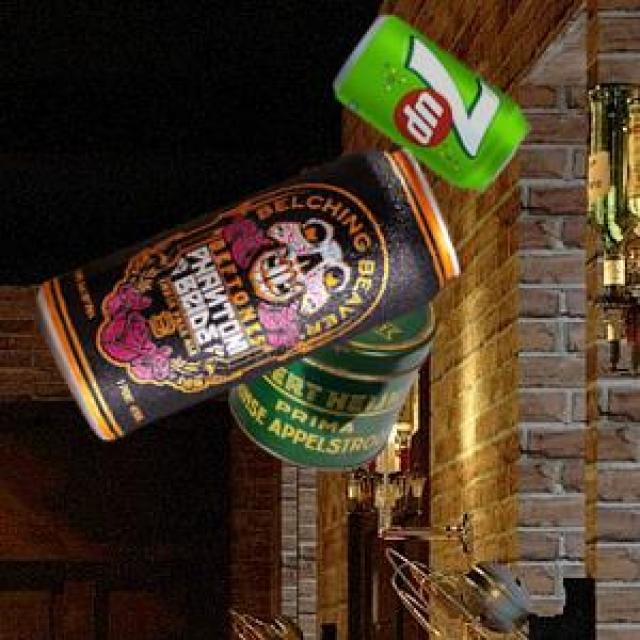Can: (33, 146, 455, 436), (227, 298, 434, 468), (334, 12, 528, 189)
